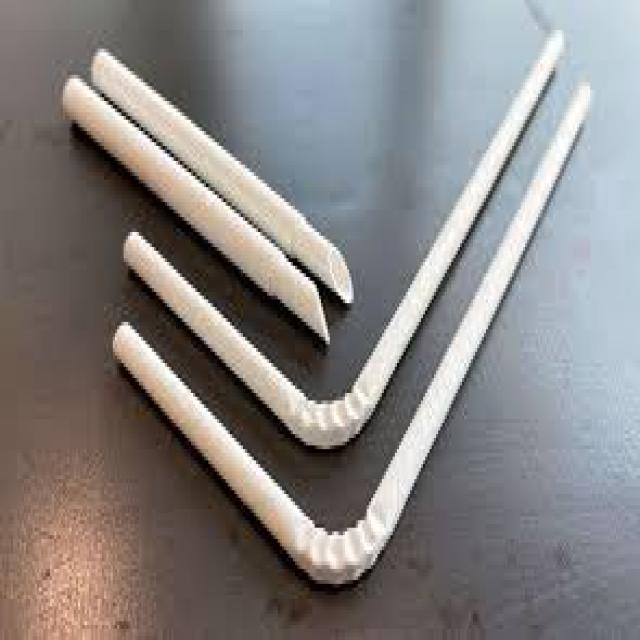straw: (115, 82, 588, 585), (125, 32, 563, 447), (65, 78, 324, 329), (94, 56, 351, 303)
